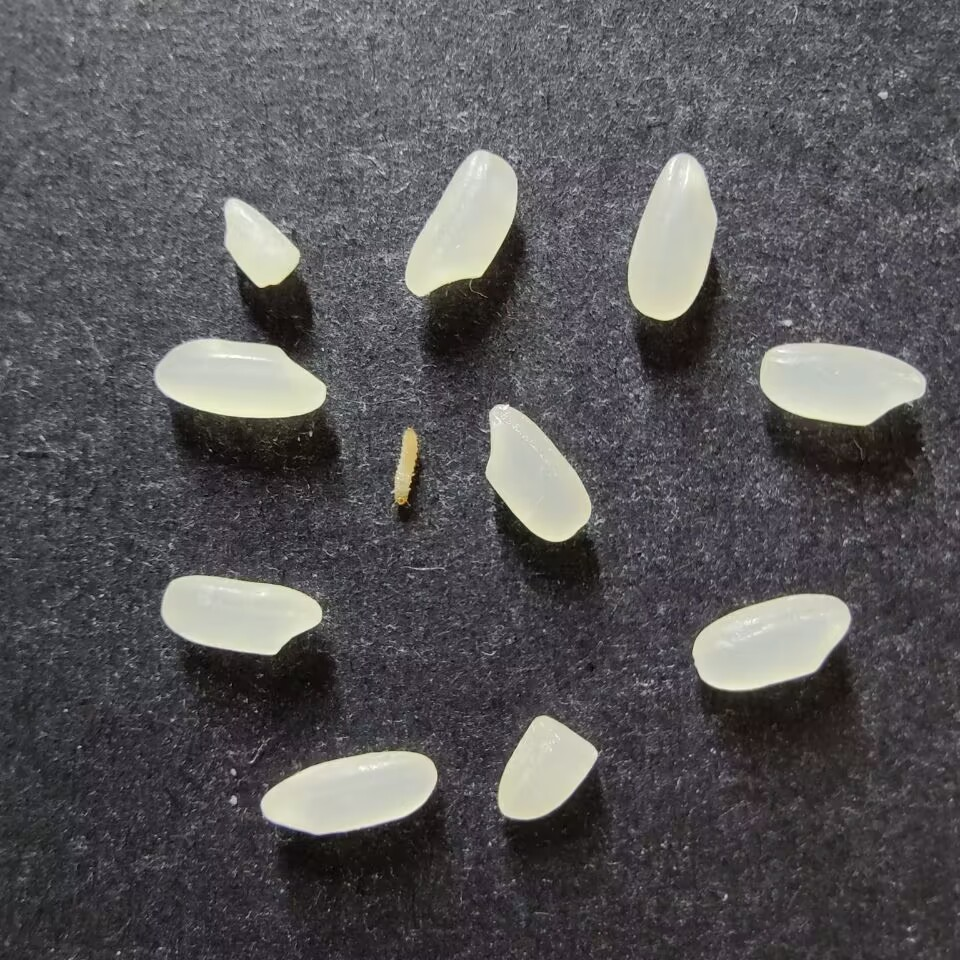broken: (496, 713, 598, 821), (222, 197, 300, 289)
others: (389, 425, 419, 510)
rice: (404, 149, 518, 297), (692, 593, 851, 691), (626, 151, 717, 321), (483, 403, 592, 542), (259, 750, 437, 834), (758, 342, 926, 426), (154, 338, 326, 418), (160, 574, 322, 655)
